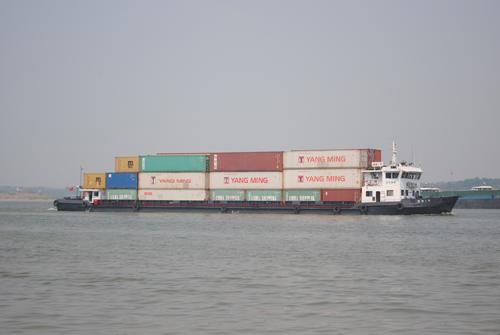Cargoship: (53, 141, 450, 218)
